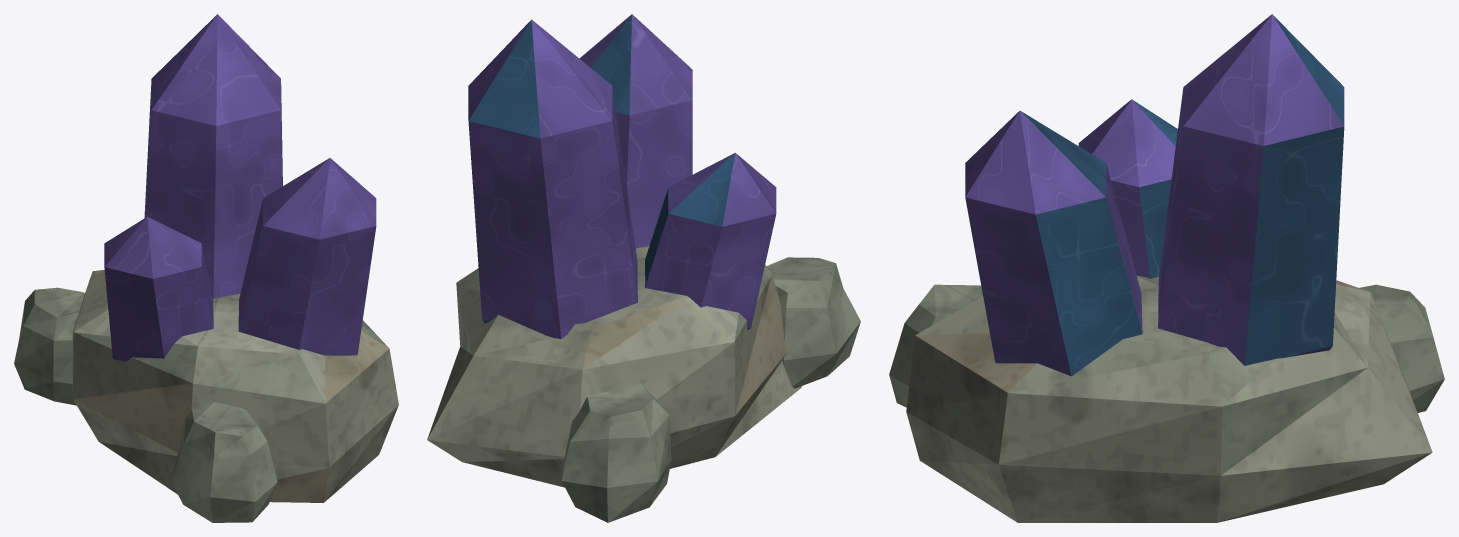
The model's file is a17_mineral_cluster_small.fbx.
3 views of the same model, side by side, from view 1: azimuth 30°, elevation 25°; view 2: azimuth 150°, elevation 25°; view 3: azimuth 270°, elevation 25° (orthographic). The views are drawn at different scales.
Parts seen in each view (by area): view 1: a17_mineral_cluster_small; view 2: a17_mineral_cluster_small; view 3: a17_mineral_cluster_small.
Part boxes in pixels (bbox=[...]): a17_mineral_cluster_small: bbox=[14, 14, 398, 522]; a17_mineral_cluster_small: bbox=[427, 14, 860, 522]; a17_mineral_cluster_small: bbox=[889, 14, 1444, 522].
Size of the model in its own units: 6637 by 10096 by 9480.
